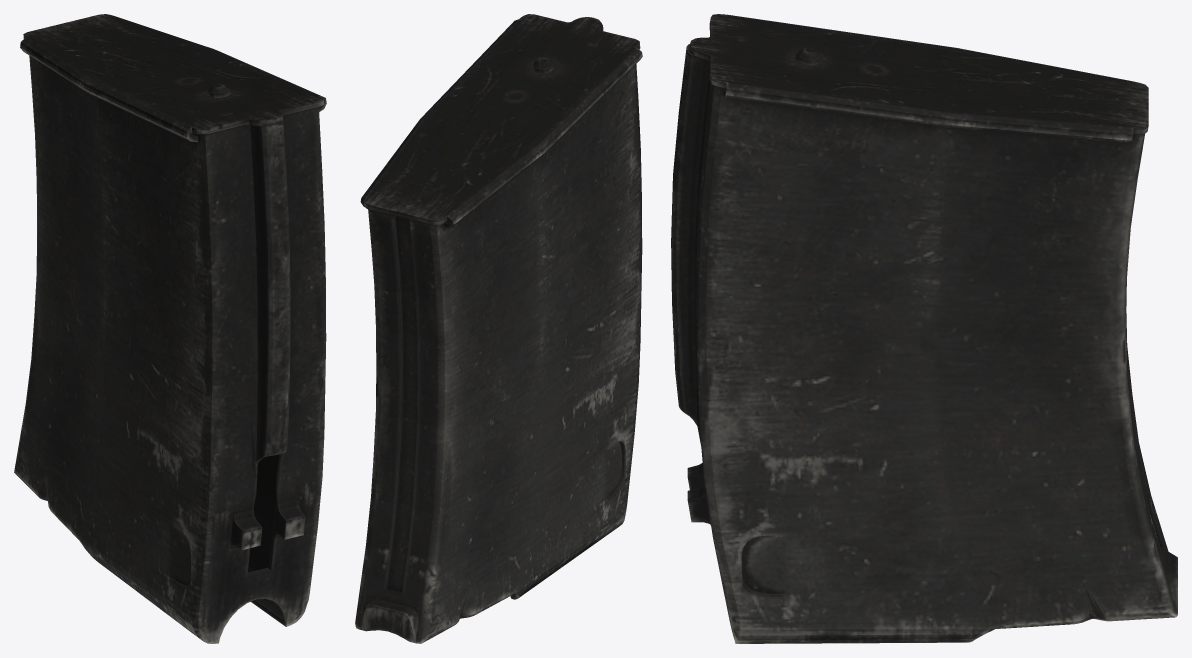
The picture shows the model from 3 angles, left to right: view 1: azimuth 30°, elevation 25°; view 2: azimuth 150°, elevation 25°; view 3: azimuth 270°, elevation 25°; orthographic projection. The views are drawn at different scales.
Visible parts, largest first — view 1: TW_6422e1ea3c0f06190302161a_PZ_Import; view 2: TW_6422e1ea3c0f06190302161a_PZ_Import; view 3: TW_6422e1ea3c0f06190302161a_PZ_Import.
Boxes of the visible parts, x1,y1,x2,y2 form: TW_6422e1ea3c0f06190302161a_PZ_Import: (14,14,326,643); TW_6422e1ea3c0f06190302161a_PZ_Import: (355,14,642,643); TW_6422e1ea3c0f06190302161a_PZ_Import: (671,14,1177,643).
Size of the model in its own units: 0.0187 by 0.054 by 0.0681.
Materials: 1 (1 with a texture image).
